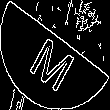M_NE: (28, 22, 82, 88)
